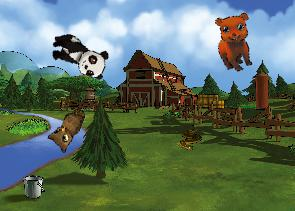bear: (207, 7, 266, 76)
owl: (44, 101, 86, 154)
panda: (45, 29, 112, 82)
